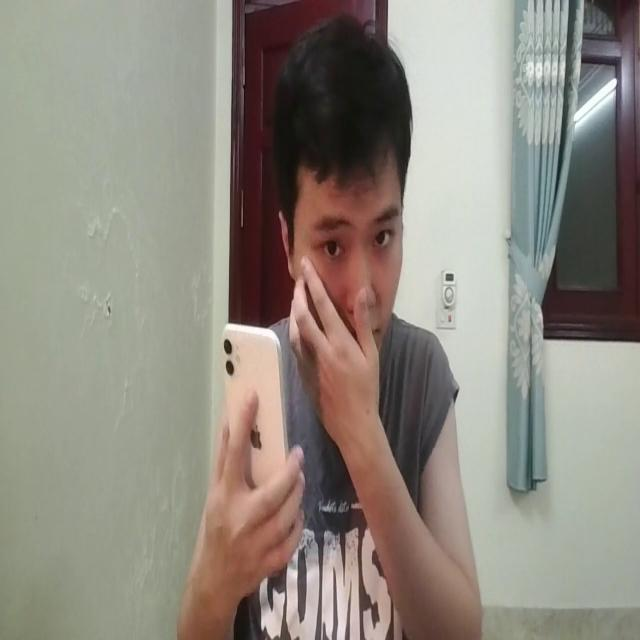phone: (218, 320, 292, 513)
student: (173, 19, 480, 640)
